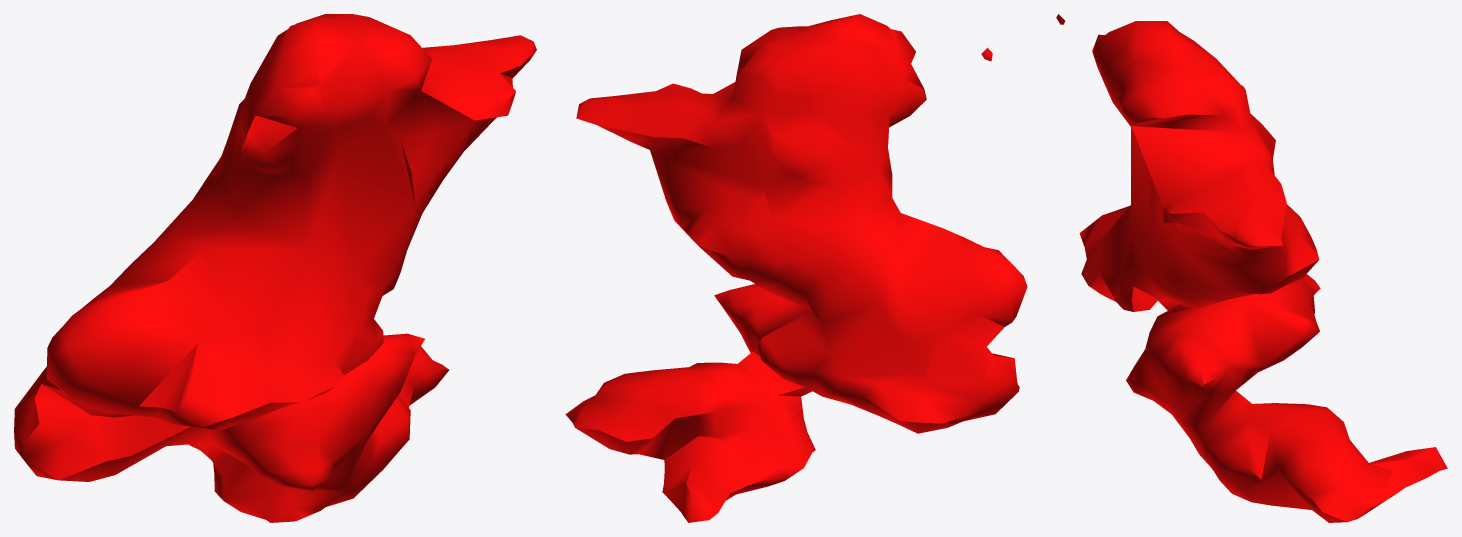
File: spl-377.glb
The picture shows the model from 3 angles, left to right: view 1: azimuth 30°, elevation 25°; view 2: azimuth 150°, elevation 25°; view 3: azimuth 270°, elevation 25°; orthographic projection. The views are drawn at different scales.
Visible parts, largest first — view 1: spl-377; view 2: spl-377; view 3: spl-377.
Part boxes in pixels (left/top/right/bottom): spl-377: left=14, top=14, right=536, bottom=522; spl-377: left=565, top=14, right=1027, bottom=522; spl-377: left=1056, top=14, right=1447, bottom=522.
Size of the model in its own units: 14.47 by 13.96 by 11.07.
